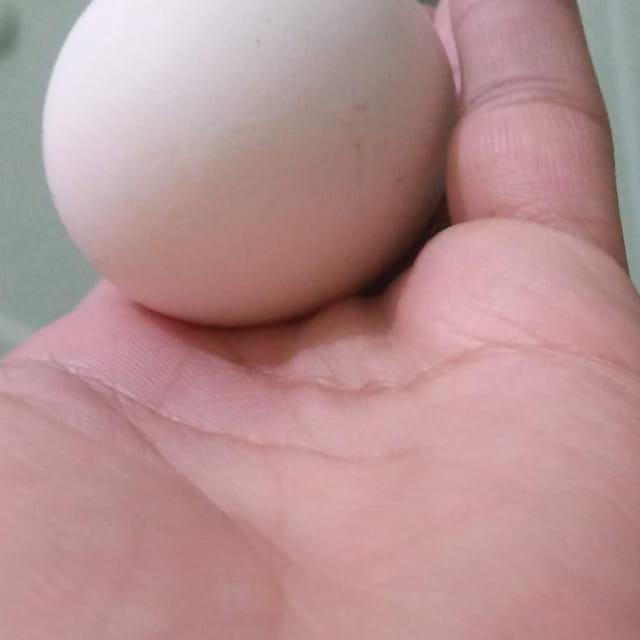egg: (38, 0, 459, 330)
